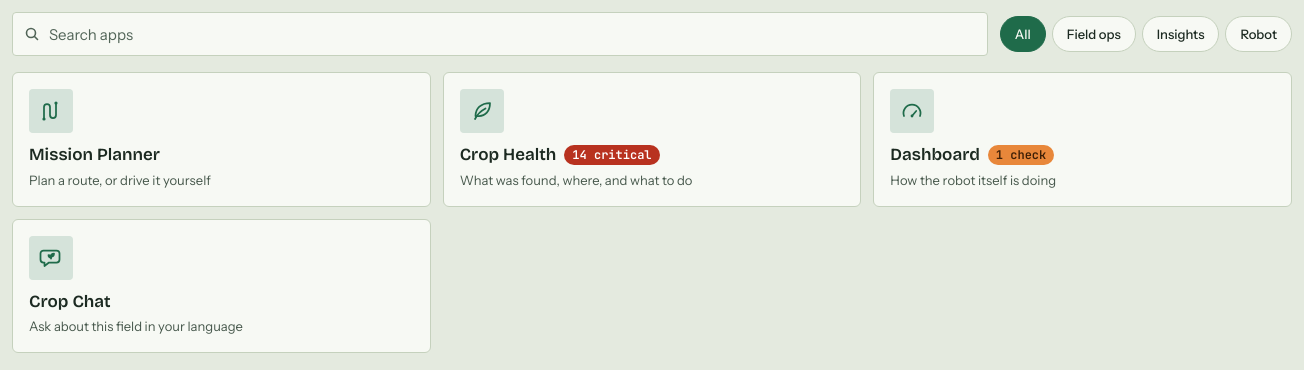
Test: AppBrowser › filters by category chip
Click the button "Robot" at (1259, 34), box [1225,16,1292,52]
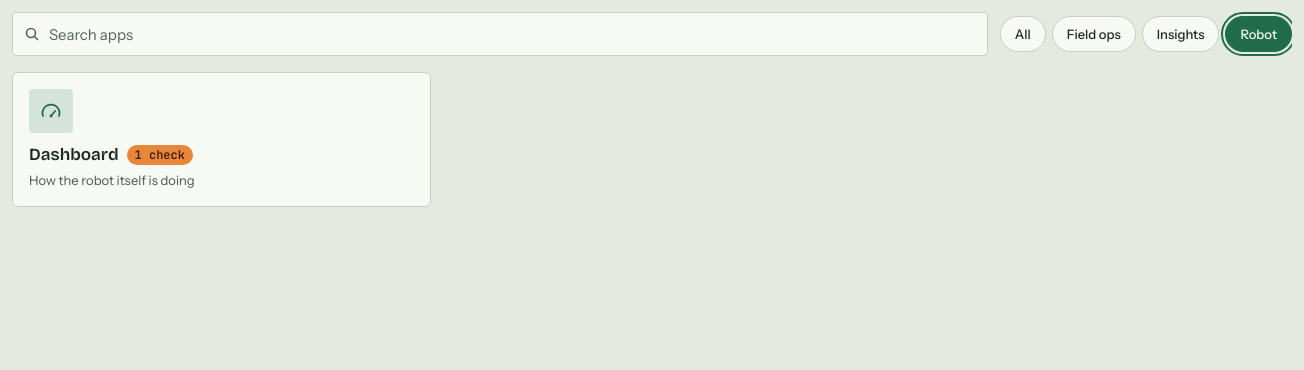
expect the link "Dashboard 1 check How the robot itself is doing" is shown: met, box [12,72,431,207]
expect the link "Crop Health" is gone: met
